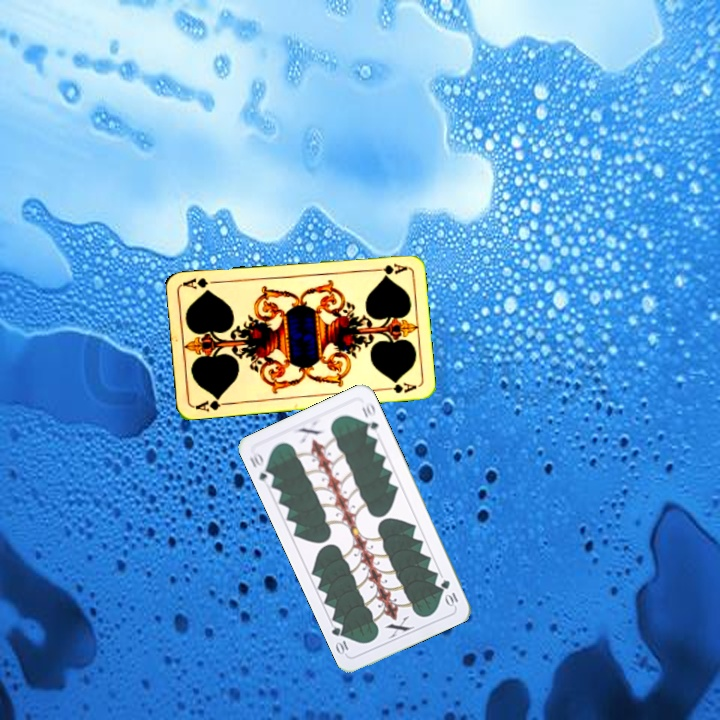G10: (245, 448, 276, 488), (437, 576, 461, 609)
GA: (191, 393, 232, 414), (369, 259, 409, 277)
